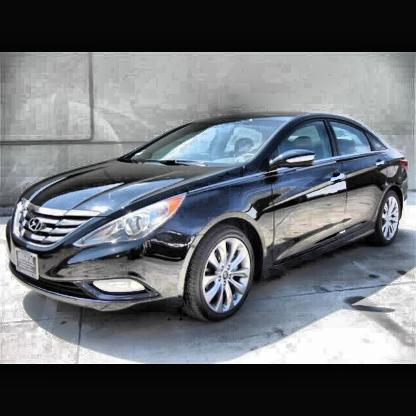Hyundai Sonata Sedan 2012: (6, 114, 410, 327)
